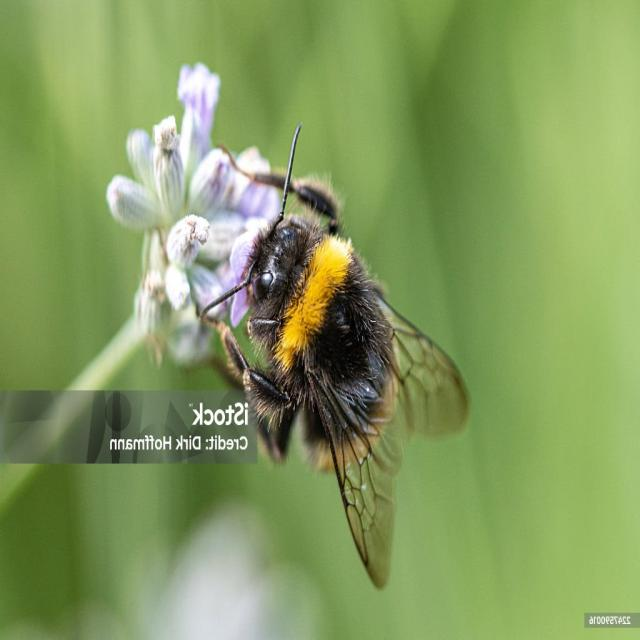bee: (198, 118, 473, 594)
